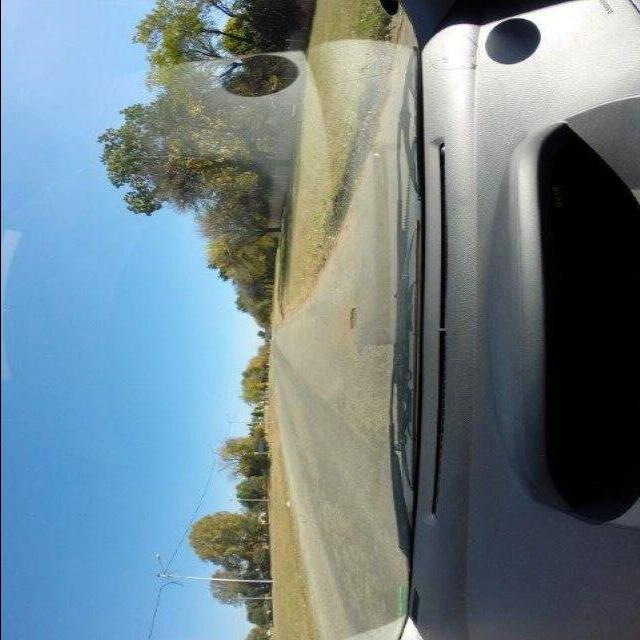lubang: (343, 303, 357, 332)
